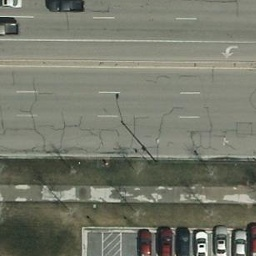car: (173, 229, 192, 256), (133, 229, 152, 255), (156, 227, 175, 253), (232, 230, 251, 256), (45, 1, 86, 11), (194, 231, 210, 256), (213, 230, 229, 255), (1, 20, 19, 37), (1, 1, 24, 7)
